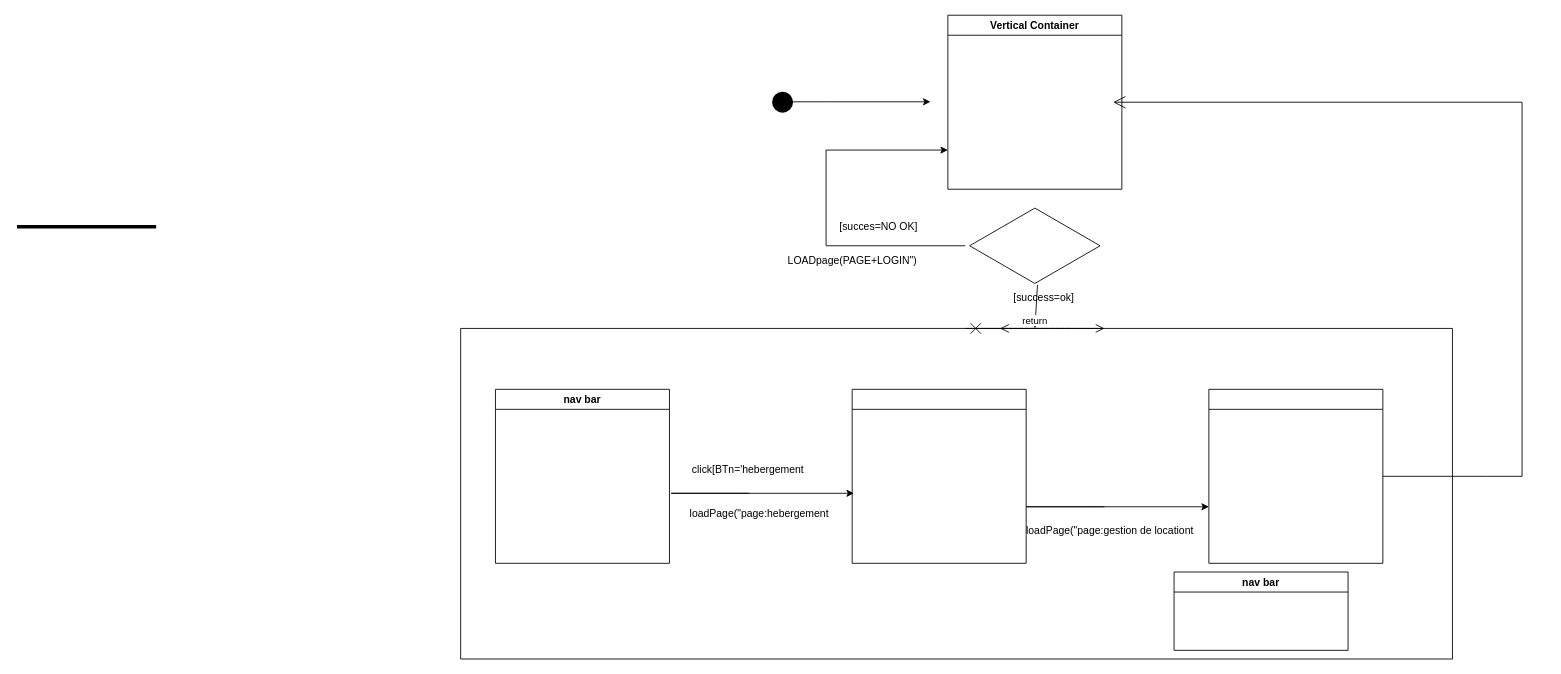
Some shapes in this 1561 by 674 pixel diagram are drawn without their labels. Here are the shapes that lost their labels. From the top down, the centre of each, then its label:
At (x=1034, y=245): "success=verifUser0".
At (x=1295, y=475): "decpnnecter".
